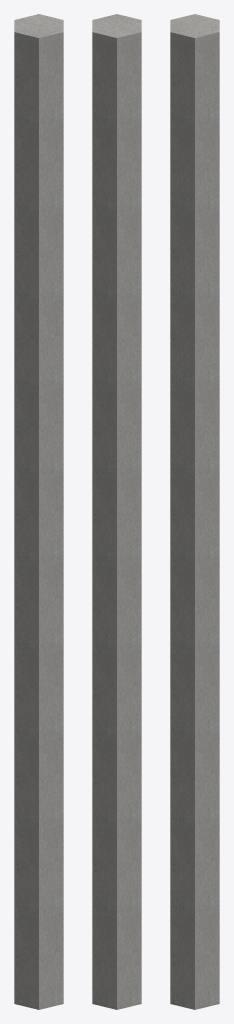
The picture shows the model from 3 angles, left to right: view 1: azimuth 30°, elevation 25°; view 2: azimuth 210°, elevation 25°; view 3: azimuth 330°, elevation 25°; orthographic projection.
Parts seen in each view (by area): view 1: Pole_Cylinder; view 2: Pole_Cylinder; view 3: Pole_Cylinder.
Boxes of the visible parts, x1,y1,x2,y2 form: Pole_Cylinder: [14, 14, 63, 1009]; Pole_Cylinder: [92, 14, 141, 1009]; Pole_Cylinder: [170, 14, 219, 1009].
Size of the model in its own units: 0.2217 by 4.16 by 0.192.
1 material, 1 textured.
